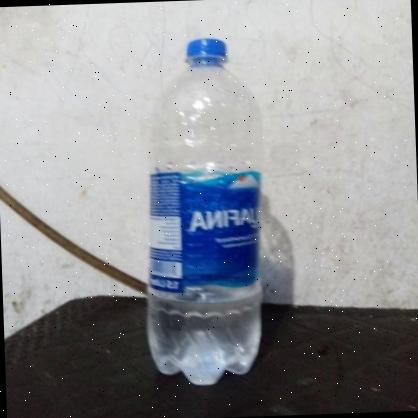bottle: (125, 26, 280, 392)
cap: (176, 34, 236, 68)
label: (136, 166, 270, 298)
